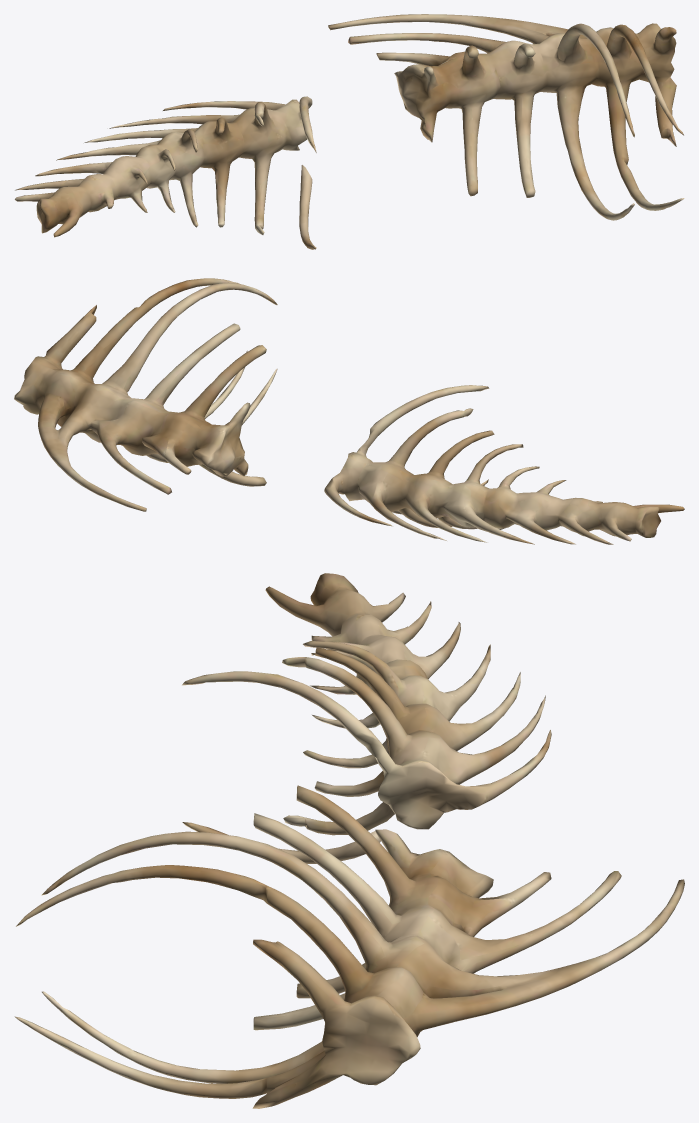
File: bone_shard_xl.glb
The picture shows the model from 3 angles, top to bottom: view 1: azimuth 30°, elevation 25°; view 2: azimuth 150°, elevation 25°; view 3: azimuth 270°, elevation 25°; orthographic projection. The views are drawn at different scales.
Visible parts, largest first — view 1: bone_shard_xl; view 2: bone_shard_xl; view 3: bone_shard_xl.
Part boxes in pixels (x1,y1,x2,y2): bone_shard_xl: (14, 14, 684, 249); bone_shard_xl: (14, 278, 684, 544); bone_shard_xl: (14, 573, 684, 1108).
Size of the model in its own units: 0.3 by 0.076 by 0.1857.
Materials: 1 (1 with a texture image).
